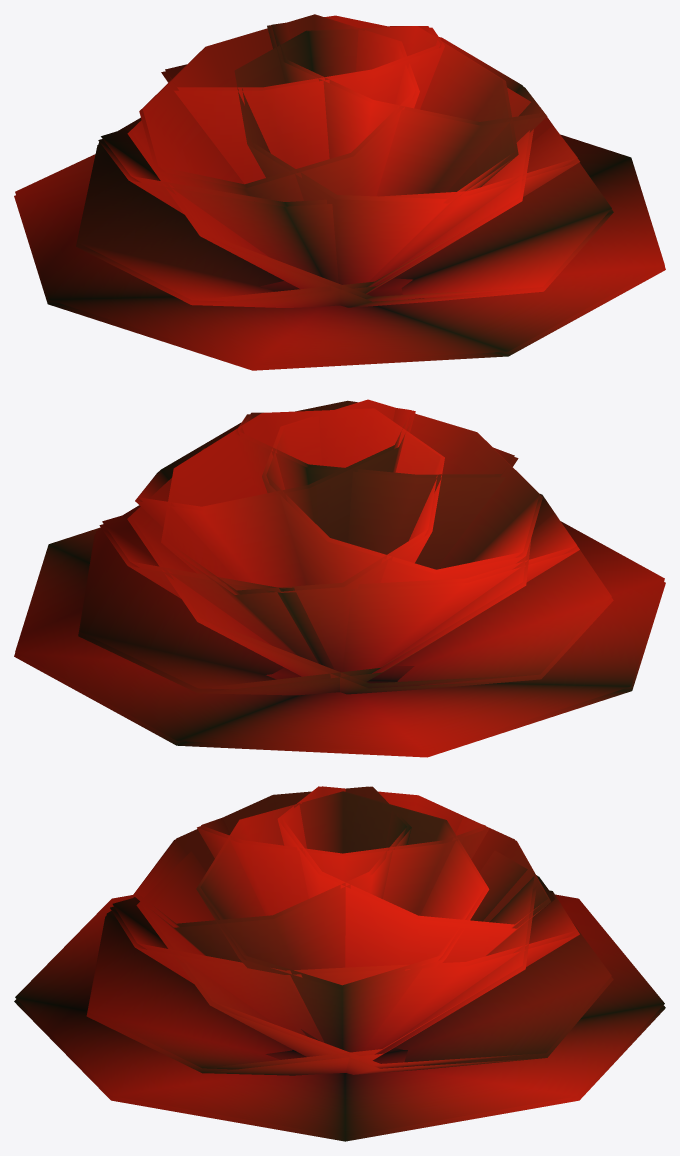
Rendered from TinyW05_high.FBX.
The picture shows the model from 3 angles, top to bottom: view 1: azimuth 30°, elevation 25°; view 2: azimuth 150°, elevation 25°; view 3: azimuth 270°, elevation 25°; orthographic projection.
Parts seen in each view (by area): view 1: TinyW05_high; view 2: TinyW05_high; view 3: TinyW05_high.
Part boxes in pixels (left/top/right/bottom): TinyW05_high: left=14, top=14, right=665, bottom=370; TinyW05_high: left=14, top=399, right=665, bottom=757; TinyW05_high: left=14, top=786, right=665, bottom=1141.
Size of the model in its own units: 1.23 by 0.532 by 1.21.
